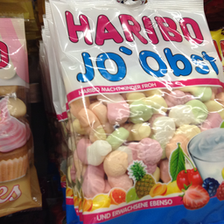candy: (51, 1, 222, 220)
